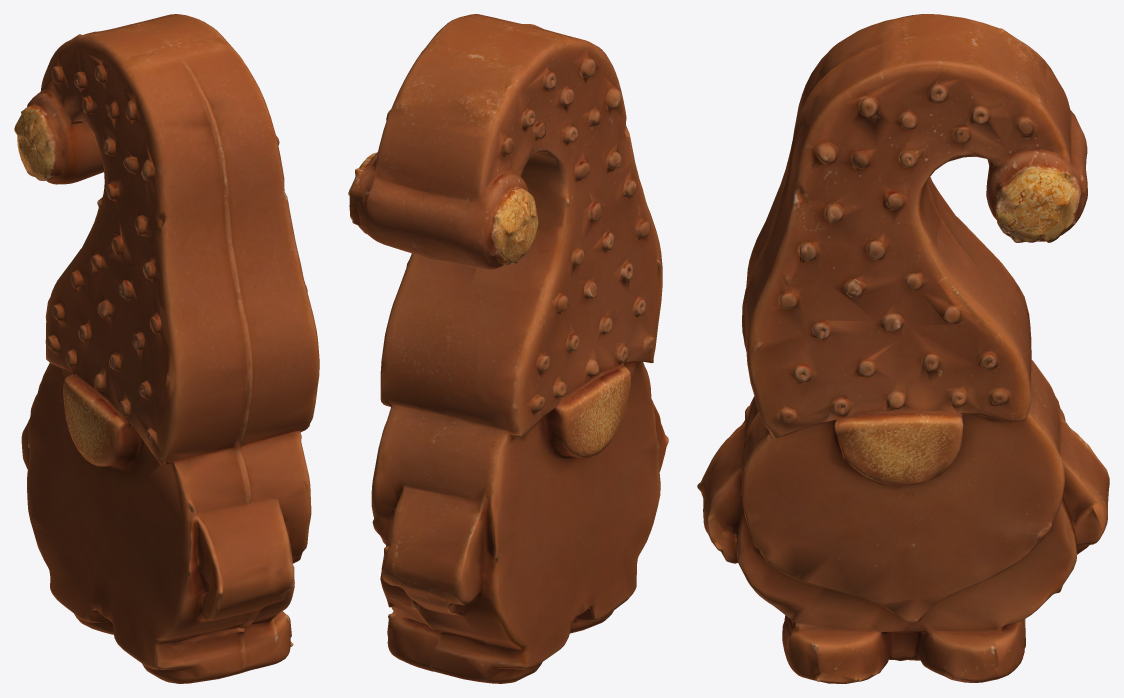
Rendered from gnome-soap.glb.
3 renders of one model, left to right at view 1: azimuth 30°, elevation 25°; view 2: azimuth 150°, elevation 25°; view 3: azimuth 270°, elevation 25°, orthographic. The views are drawn at different scales.
Parts seen in each view (by area): view 1: tripo_node_7052f7f2-42a7-4260-8a13-e32d33f1c1a3; view 2: tripo_node_7052f7f2-42a7-4260-8a13-e32d33f1c1a3; view 3: tripo_node_7052f7f2-42a7-4260-8a13-e32d33f1c1a3.
Part boxes in pixels (x1,y1,x2,y2): tripo_node_7052f7f2-42a7-4260-8a13-e32d33f1c1a3: (14, 14, 319, 683); tripo_node_7052f7f2-42a7-4260-8a13-e32d33f1c1a3: (348, 14, 668, 683); tripo_node_7052f7f2-42a7-4260-8a13-e32d33f1c1a3: (697, 14, 1109, 683).
Bounding box in the file's own units: 0.3136 × 0.9998 × 0.6117.
Materials: 1 (1 with a texture image).
